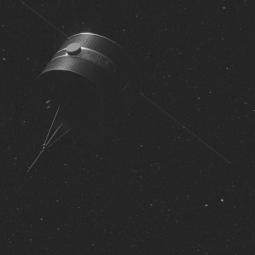double_start: (31, 22, 148, 144)
